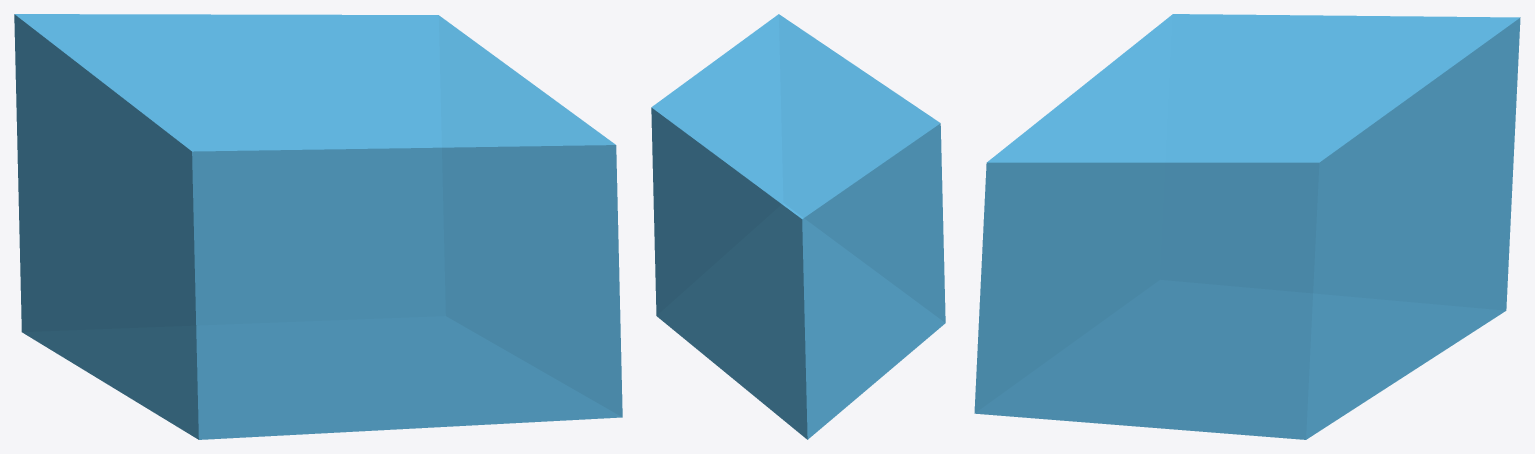
File: Event_421278790_HErechit_41.fbx
3 views of the same model, side by side, from view 1: azimuth 30°, elevation 25°; view 2: azimuth 150°, elevation 25°; view 3: azimuth 270°, elevation 25° (orthographic). The views are drawn at different scales.
Visible parts, largest first — view 1: Model; view 2: Model; view 3: Model.
Part boxes in pixels (left/top/right/bottom): Model: left=14, top=14, right=622, bottom=439; Model: left=651, top=14, right=945, bottom=439; Model: left=974, top=14, right=1520, bottom=439.
Bounding box in the file's own units: 0.6236 × 0.5738 × 0.9683.
